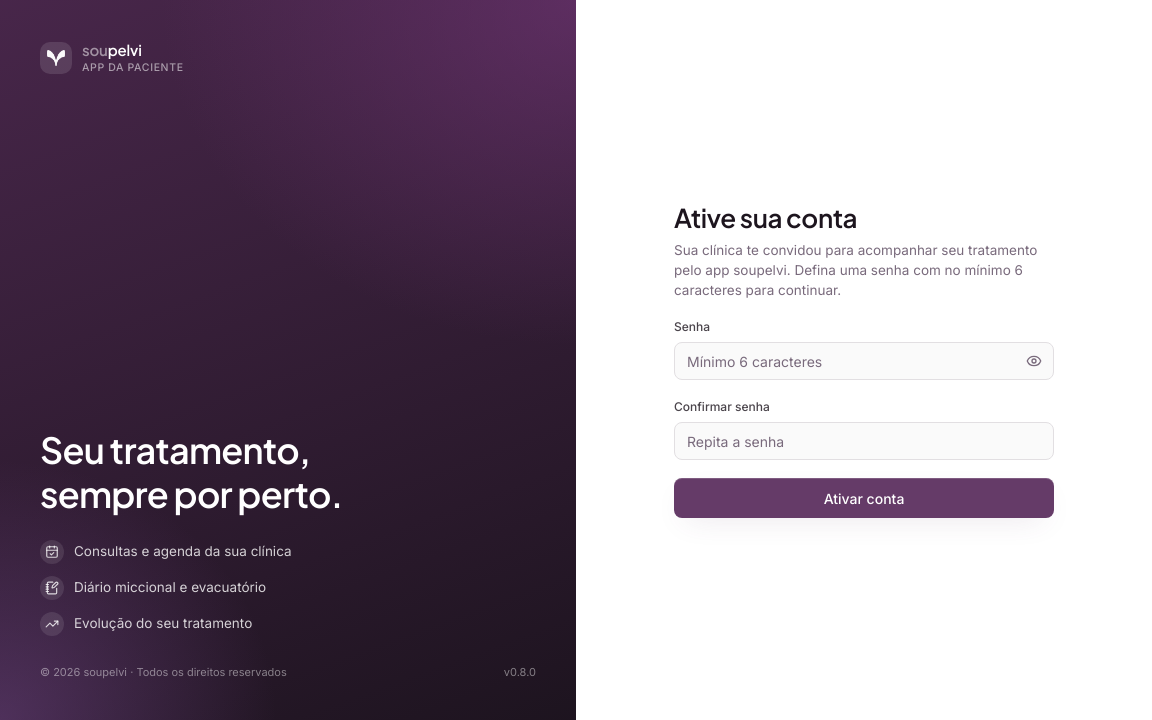
Test: ActivatePatientAccount page › exibe a mensagem de sucesso pedindo para baixar o app
This screenshot has width=1152, height=720.
Step 1. Type "novaSenha123" into the password field labelled "Senha" → (864, 361), box x1=674 y1=342 x2=1054 y2=380
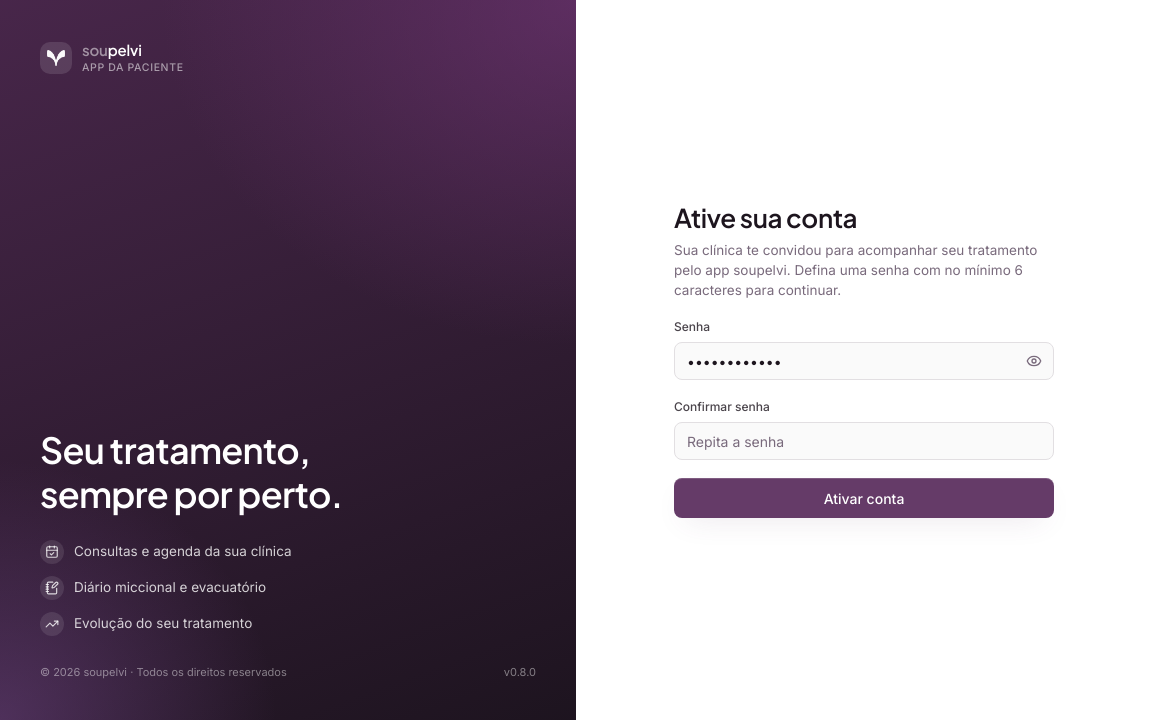
Step 2. Type "novaSenha123" into the password field labelled "Confirmar senha" → (864, 441), box x1=674 y1=422 x2=1054 y2=460
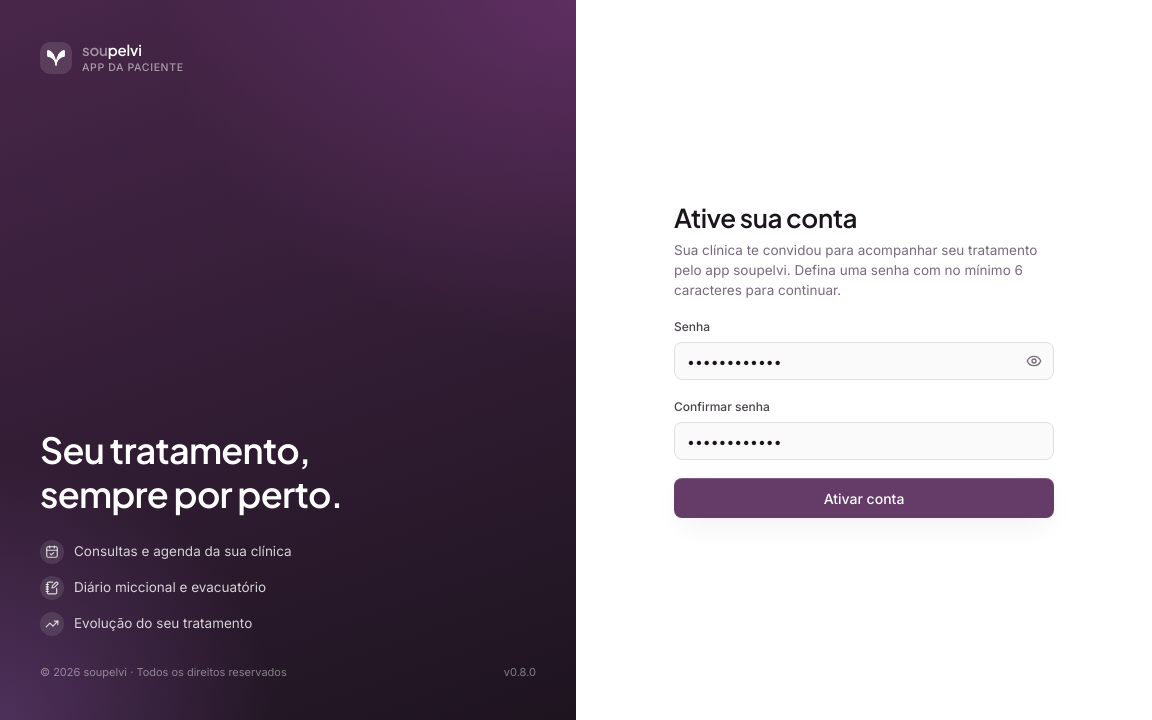
Step 3. Click the button "Ativar conta" → (864, 498), box x1=674 y1=478 x2=1054 y2=518
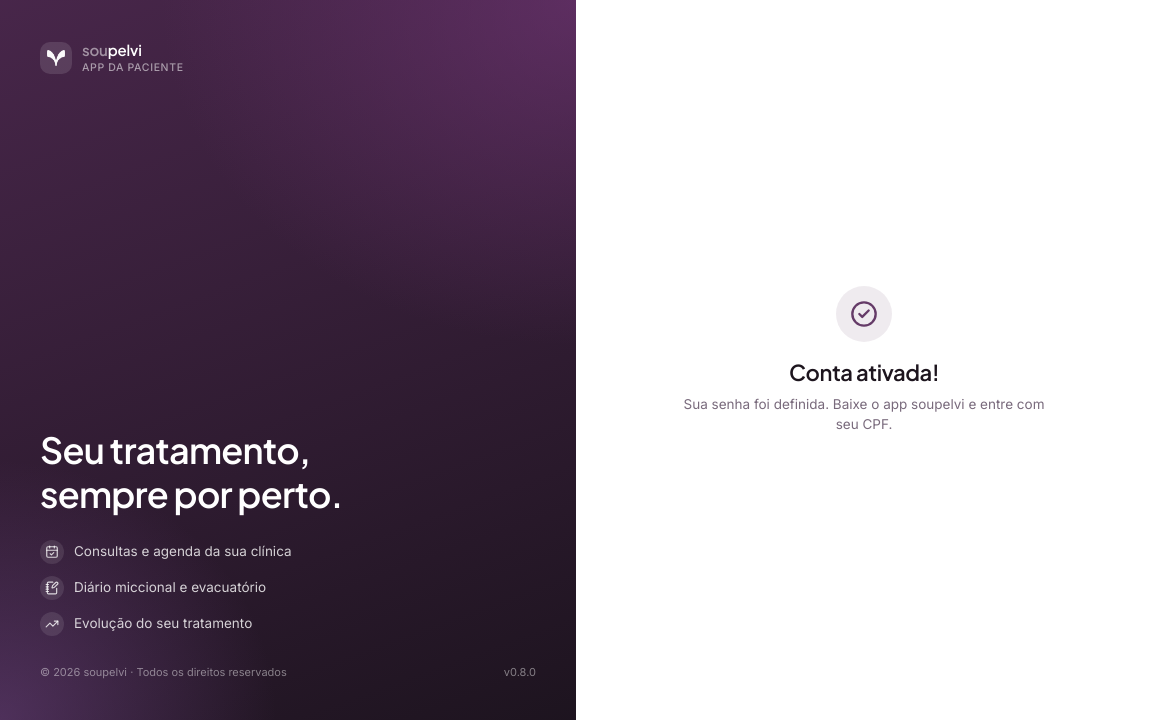
Check: the heading "Conta ativada!" is shown, box x1=789 y1=358 x2=939 y2=386
Check: the text "Baixe o app soupelvi" is shown, box x1=684 y1=396 x2=1044 y2=432
